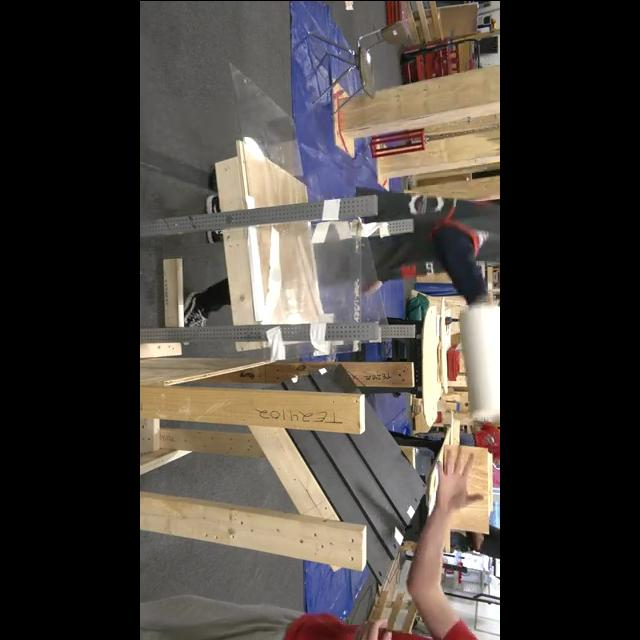CORAL: (460, 302, 500, 422)
